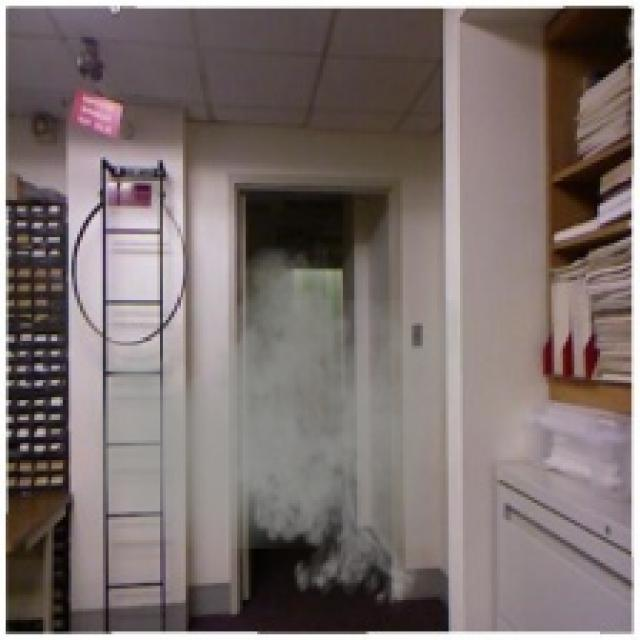smoke: (83, 232, 468, 617)
